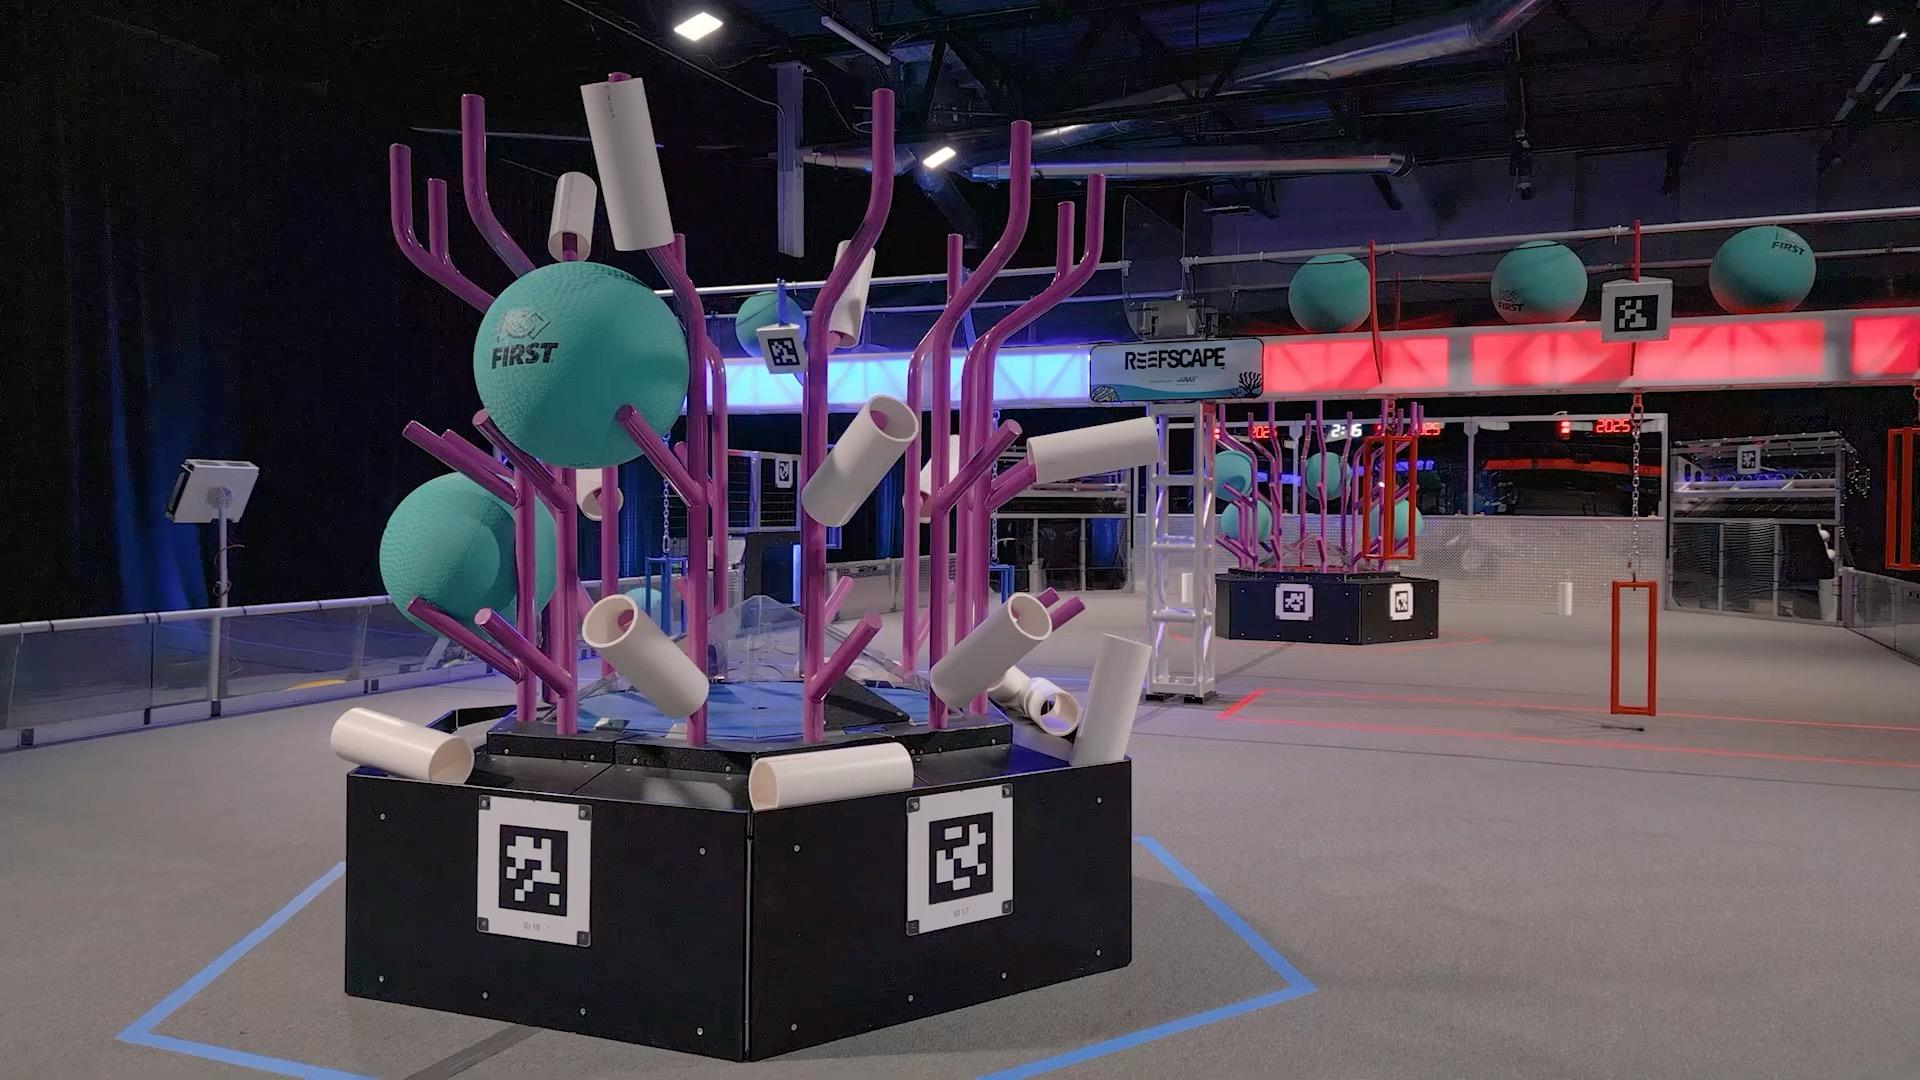ALGAE: (471, 258, 690, 469), (377, 469, 556, 640), (1706, 223, 1816, 314), (1489, 237, 1586, 324), (1286, 251, 1371, 334), (735, 289, 807, 361), (1300, 450, 1352, 502), (1218, 495, 1273, 545), (1369, 497, 1423, 543), (1209, 448, 1253, 501)
CORAL: (579, 71, 673, 251), (798, 392, 918, 527), (580, 592, 709, 717), (927, 589, 1051, 705), (746, 738, 914, 810), (328, 703, 473, 785), (1068, 630, 1153, 767), (1025, 414, 1160, 487), (829, 241, 878, 349), (550, 171, 597, 262), (1021, 678, 1081, 736)
